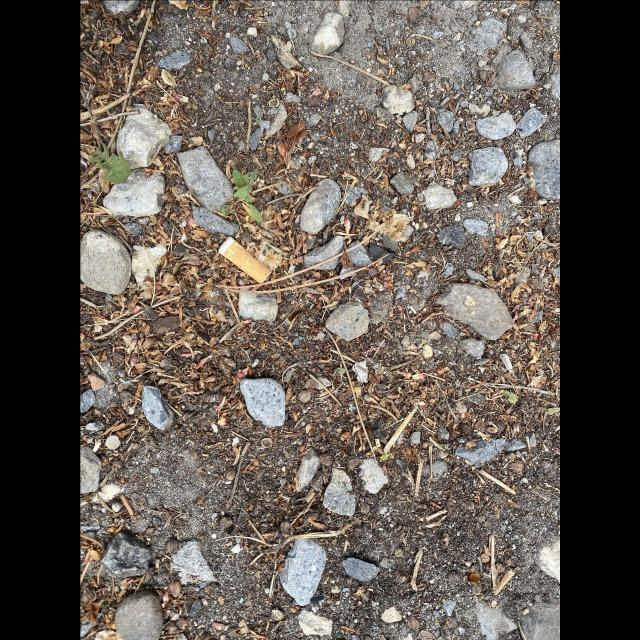cigarette: (217, 236, 272, 284)
